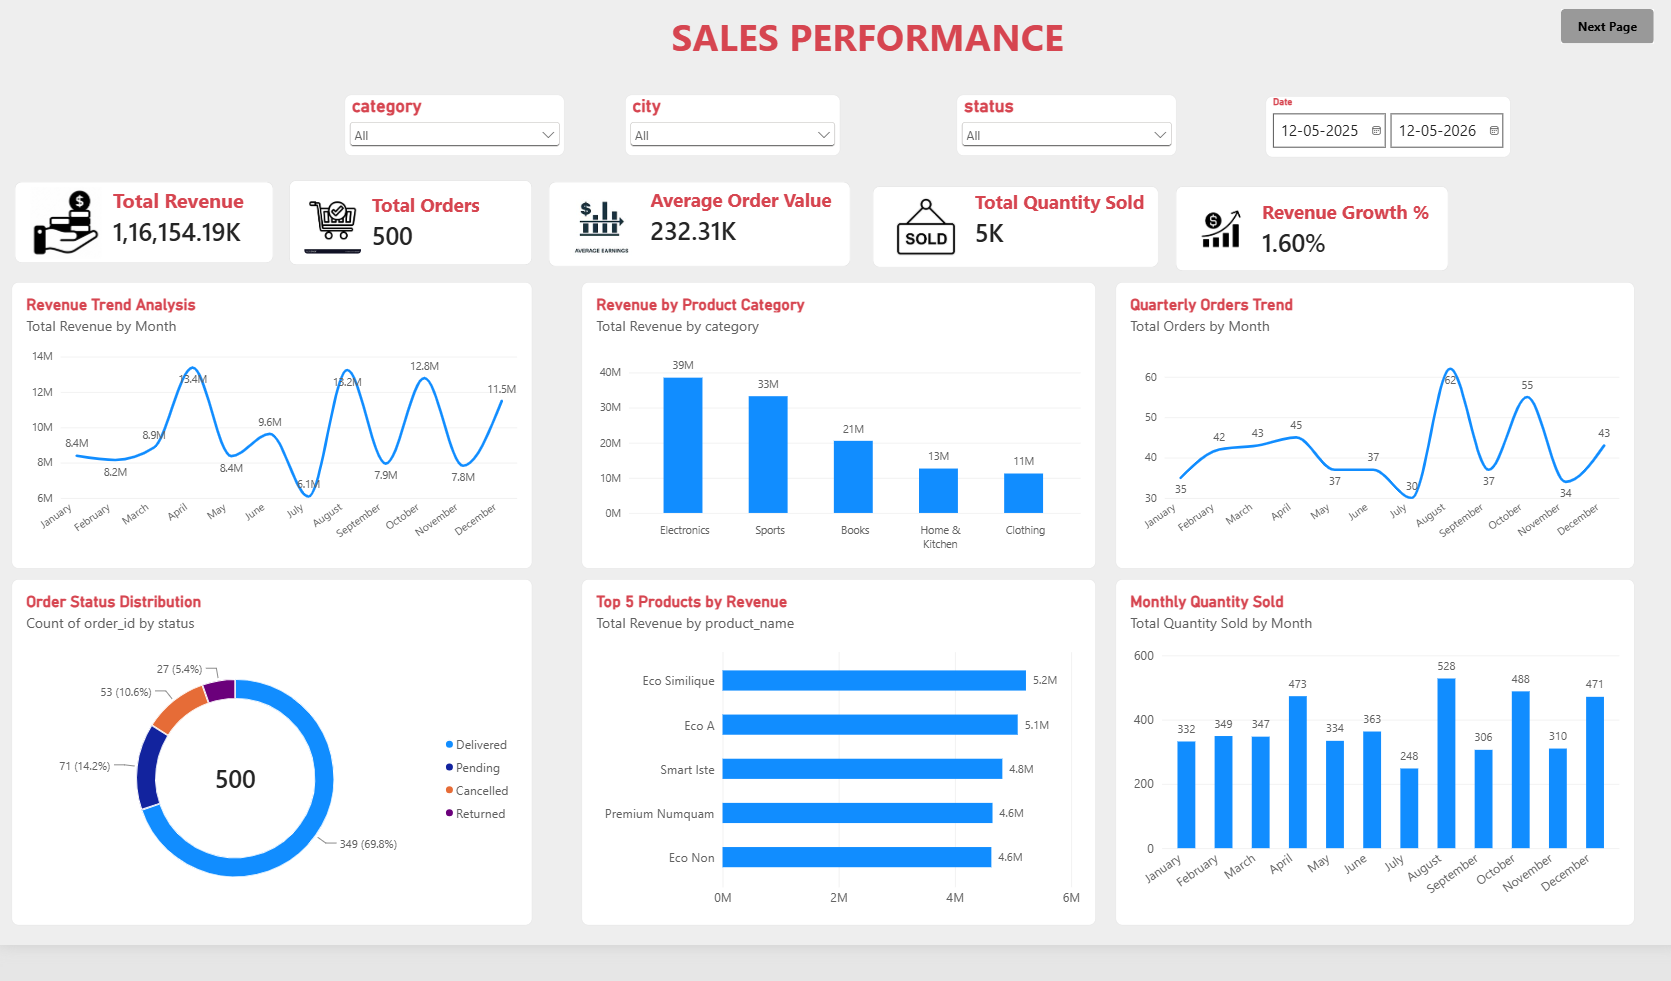

The dashboard page shown, as its layout file describes it:
{"tool":"powerbi","page":{"name":"Sales Performance","canvas":[1920,1080],"ordinal":0},"visuals":[{"type":"textbox","box":[766.4,15.2,484.9,70.4],"z":0},{"type":"cardVisual","fields":{"Data":["order_items.Total Revenue"]},"box":[18,211,295.8,93.8],"z":1000},{"type":"cardVisual","fields":{"Data":["order_items.Total Orders"]},"box":[331.8,209.2,277.7,97.4],"z":2000},{"type":"cardVisual","fields":{"Data":["order_items.Average Order Value"]},"box":[627.6,211,344.4,97.4],"z":3000},{"type":"lineChart","title":"Revenue Trend Analysis","fields":{"Category":["DateTable.Date Hierarchy.Year","DateTable.Date Hierarchy.Month","DateTable.Date Hierarchy.Quarter","DateTable.Date Hierarchy.Date"],"Y":["order_items.Total Revenue"]},"box":[16.2,324.6,593.3,326.4],"z":4000},{"type":"slicer","fields":{"Values":["DateTable.Date"]},"box":[1444.5,113.6,279.5,70.3],"z":5000},{"type":"clusteredColumnChart","title":"Revenue by Product Category","fields":{"Category":["products.category"],"Y":["order_items.Total Revenue"]},"box":[665.5,324.6,586.1,326.4],"z":6000},{"type":"donutChart","title":"Order Status Distribution","fields":{"Category":["orders.status"],"Y":["CountNonNull(orders.order_id)"]},"box":[16.2,663.7,593.3,394.9],"z":7000},{"type":"clusteredBarChart","title":"Top 5 Products by Revenue","fields":{"Category":["products.product_name"],"Y":["order_items.Total Revenue"]},"box":[665.5,663.7,586.1,394.9],"z":8000},{"type":"lineChart","title":"Quarterly Orders Trend","fields":{"Category":["DateTable.Date Hierarchy.Year","DateTable.Date Hierarchy.Month","DateTable.Date Hierarchy.Quarter","DateTable.Date Hierarchy.Date"],"Y":["order_items.Total Orders"]},"box":[1273.2,324.6,591.5,326.4],"z":9000},{"type":"clusteredColumnChart","title":"Monthly Quantity Sold","fields":{"Category":["DateTable.Date Hierarchy.Year","DateTable.Date Hierarchy.Month","DateTable.Date Hierarchy.Quarter","DateTable.Date Hierarchy.Date"],"Y":["order_items.Total Quantity Sold"]},"box":[1273.2,663.7,591.5,394.9],"z":10000},{"type":"cardVisual","fields":{"Data":["order_items.Total Quantity Sold"]},"box":[995.5,214.6,326.4,93.8],"z":11000},{"type":"cardVisual","fields":{"Data":["order_items.Revenue Growth %"]},"box":[1341.7,214.6,312,97.4],"z":12000},{"type":"slicer","fields":{"Values":["products.category"]},"box":[394.9,111.8,250.7,70.3],"z":13000},{"type":"slicer","fields":{"Values":["customers.city"]},"box":[714.1,111.8,245.3,70.3],"z":14000},{"type":"slicer","fields":{"Values":["orders.status"]},"box":[1091.1,111.8,250.7,70.3],"z":15000},{"type":"actionButton","box":[1780.9,14.3,105.7,39.4],"z":15001}]}

Visuals, with their boxes on the page's 1920x1080 design canvas (x1, y1, x2, y2). These are canvas units, not pixel positions in the 1671x981 screenshot, which may show the page scaled, cropped or inside an application window:
textbox: bbox=(766, 15, 1251, 86)
cardVisual - order_items.Total Revenue: bbox=(18, 211, 314, 305)
cardVisual - order_items.Total Orders: bbox=(332, 209, 610, 307)
cardVisual - order_items.Average Order Value: bbox=(628, 211, 972, 308)
"Revenue Trend Analysis" lineChart: bbox=(16, 325, 610, 651)
slicer - DateTable.Date: bbox=(1444, 114, 1724, 184)
"Revenue by Product Category" clusteredColumnChart: bbox=(666, 325, 1252, 651)
"Order Status Distribution" donutChart: bbox=(16, 664, 610, 1059)
"Top 5 Products by Revenue" clusteredBarChart: bbox=(666, 664, 1252, 1059)
"Quarterly Orders Trend" lineChart: bbox=(1273, 325, 1865, 651)
"Monthly Quantity Sold" clusteredColumnChart: bbox=(1273, 664, 1865, 1059)
cardVisual - order_items.Total Quantity Sold: bbox=(996, 215, 1322, 308)
cardVisual - order_items.Revenue Growth %: bbox=(1342, 215, 1654, 312)
slicer - products.category: bbox=(395, 112, 646, 182)
slicer - customers.city: bbox=(714, 112, 959, 182)
slicer - orders.status: bbox=(1091, 112, 1342, 182)
actionButton: bbox=(1781, 14, 1887, 54)
